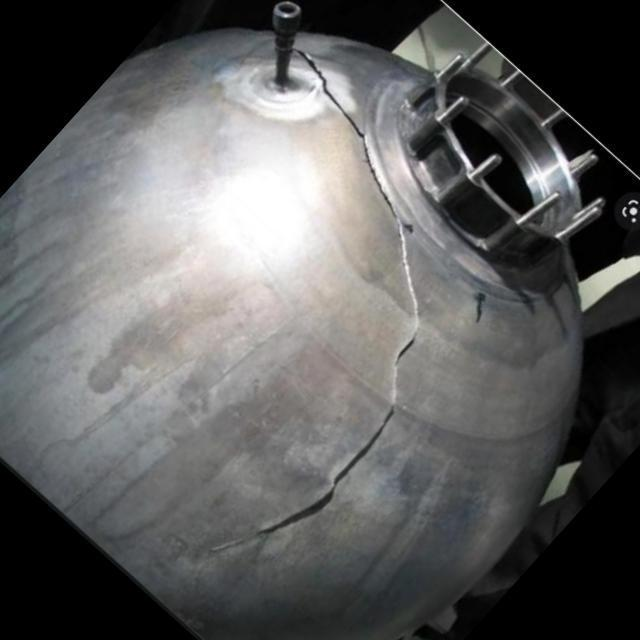defect: (253, 45, 423, 542)
